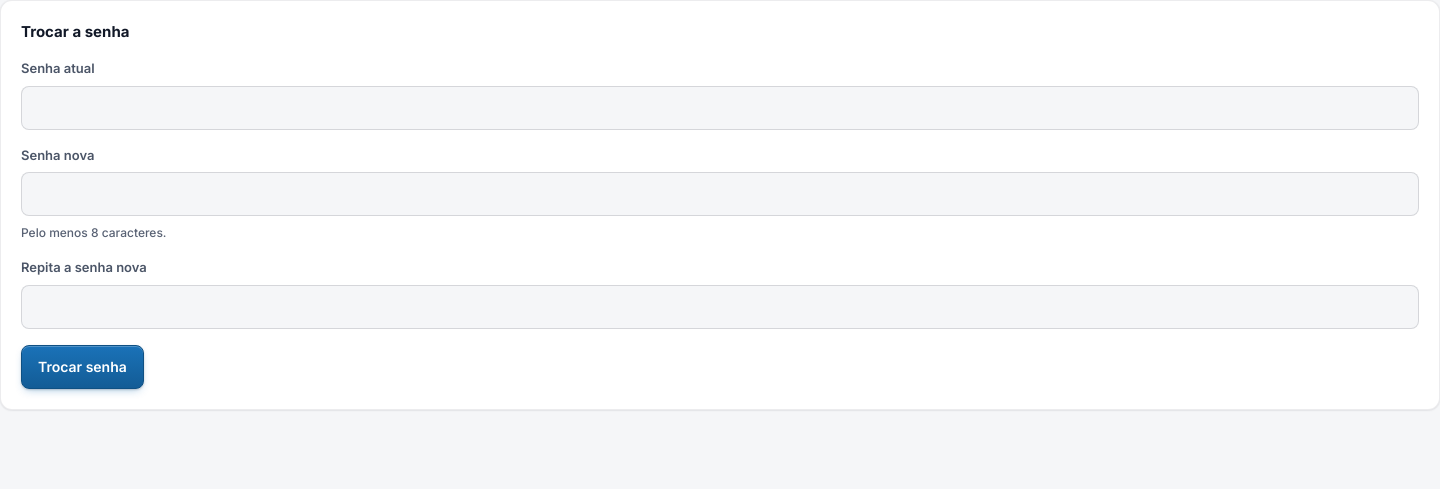
Test: ChangePasswordForm › troca a senha e limpa o formulário
In the password field labelled "Senha atual": [720, 108] box top-left (21, 86), bottom-right (1419, 130), type "atual-12345"
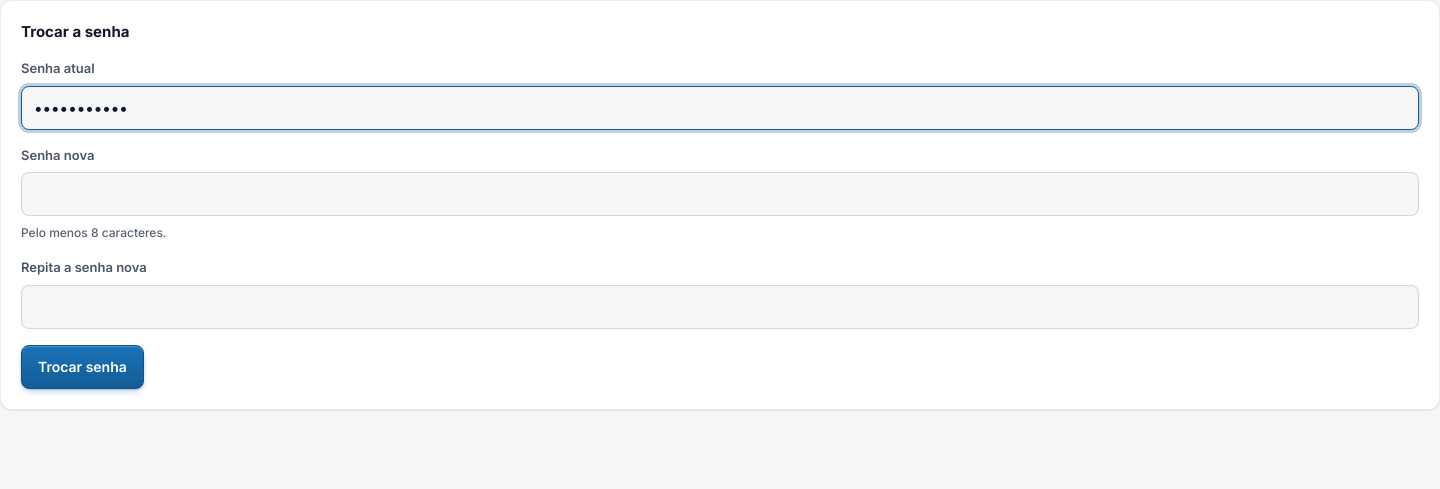
In the password field labelled "Senha nova": [720, 194] box top-left (21, 172), bottom-right (1419, 216), type "nova-senha-1"
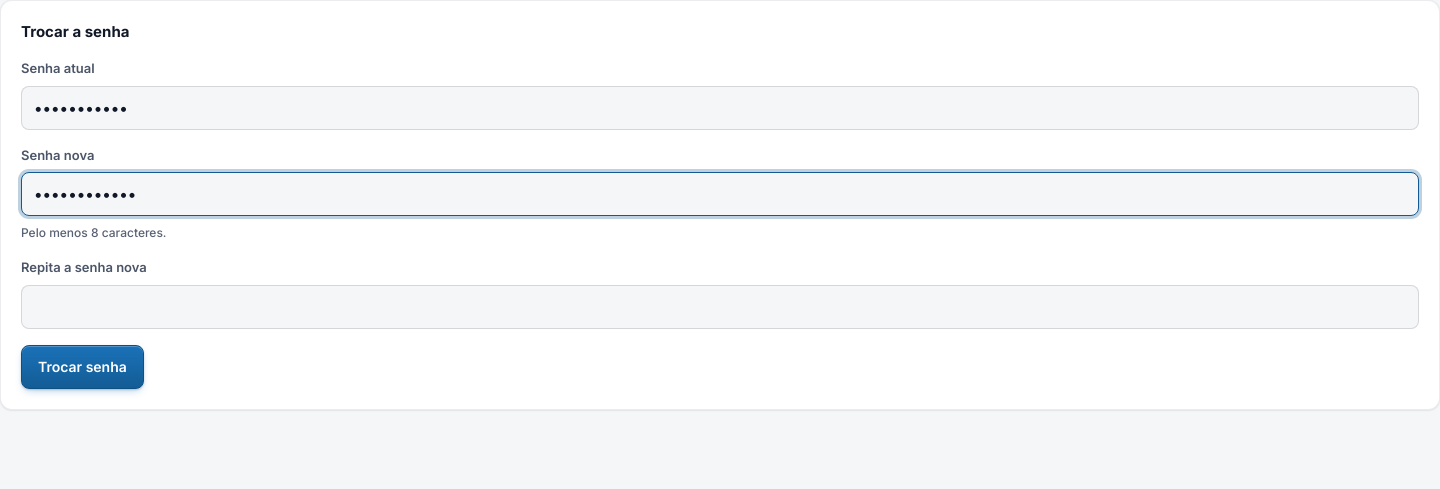
In the password field labelled "Repita a senha nova": [720, 307] box top-left (21, 285), bottom-right (1419, 329), type "nova-senha-1"
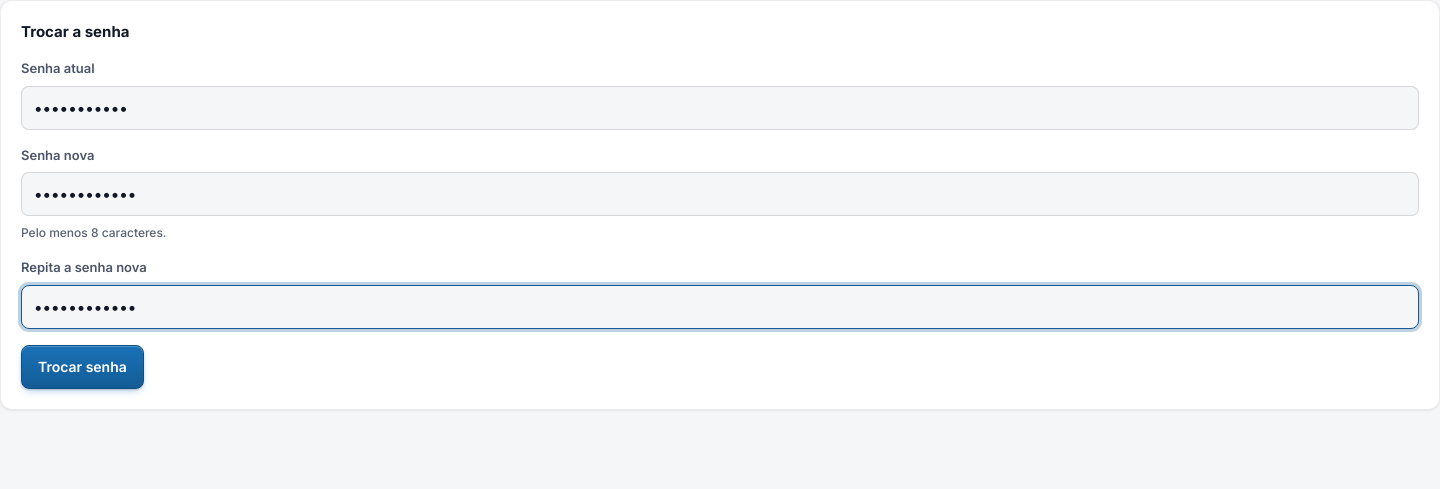
Submit the form named "Trocar senha"
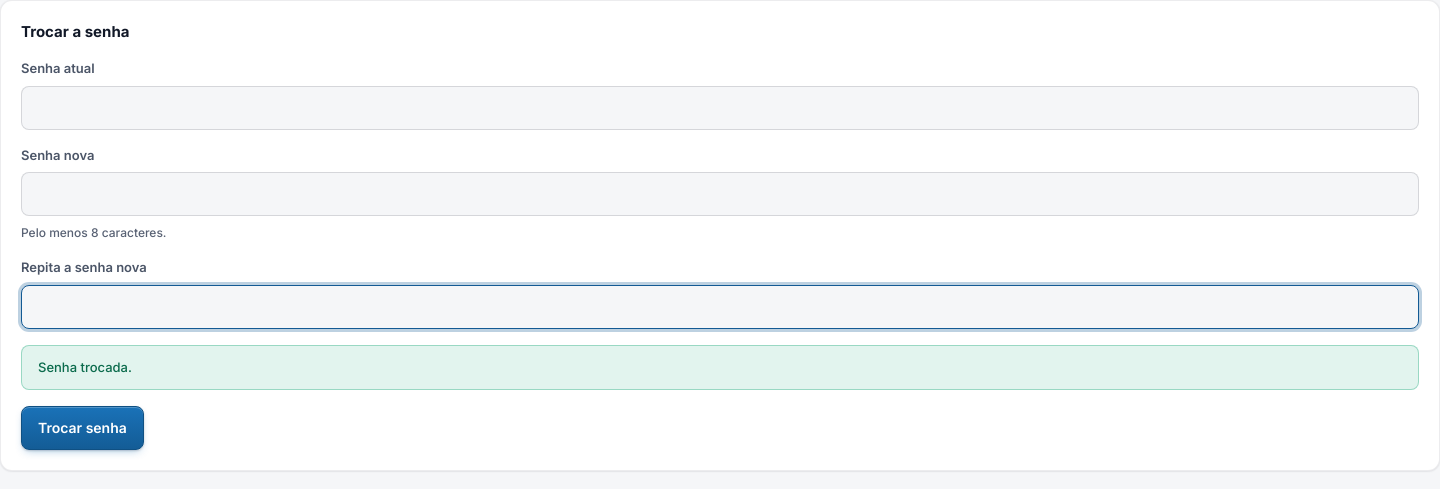
Expected: the message reads "Senha trocada.", top-left (38, 359), bottom-right (132, 375)
Expected: the password field labelled "Senha atual" is empty, top-left (21, 86), bottom-right (1419, 130)
